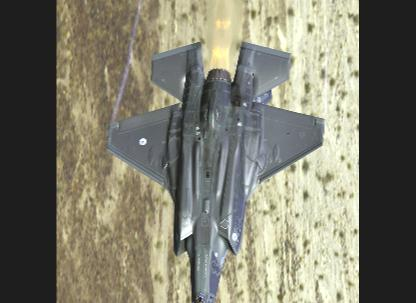F22: (107, 40, 327, 302)
